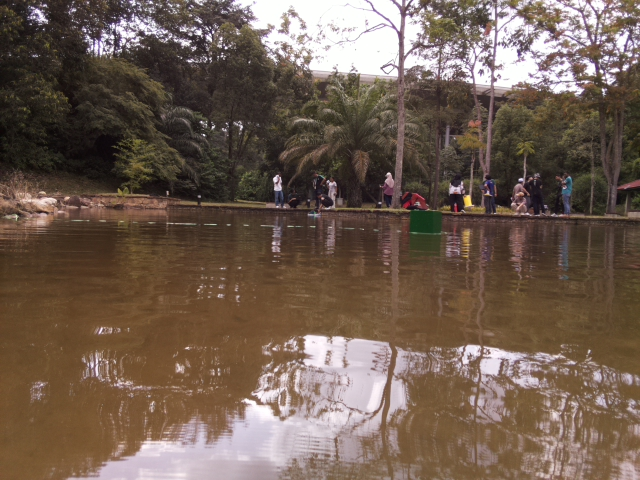obstacle: (408, 210, 444, 235)
